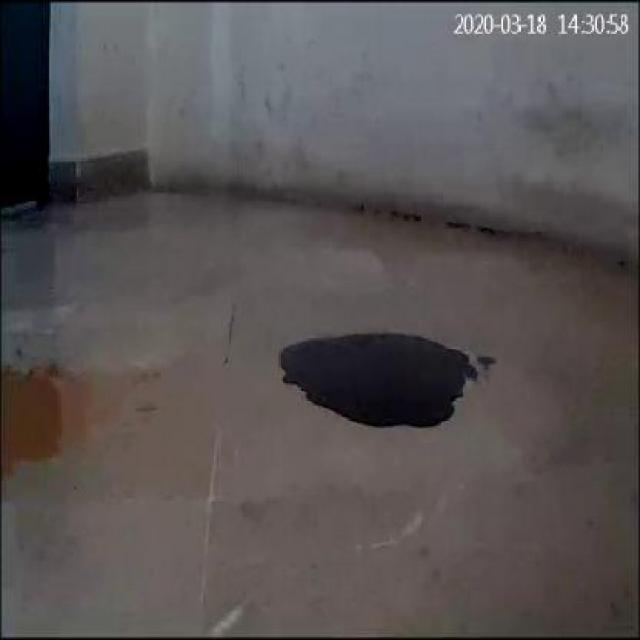spill: (269, 328, 486, 430)
